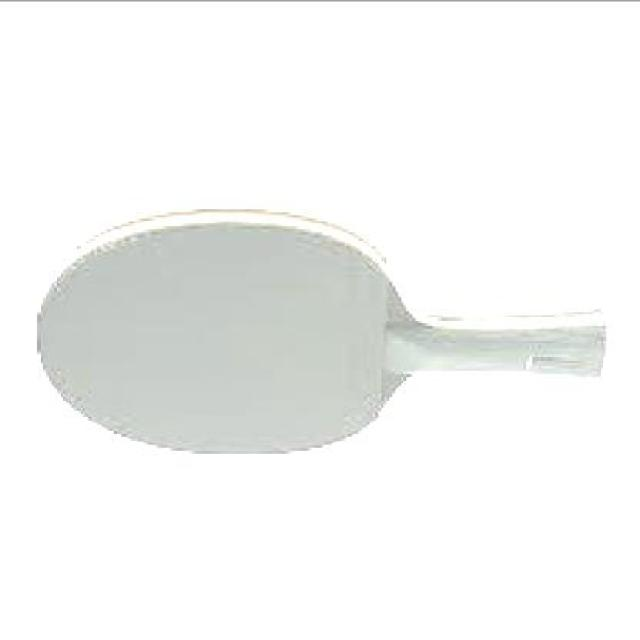table_tennis_racket: (28, 203, 420, 462)
